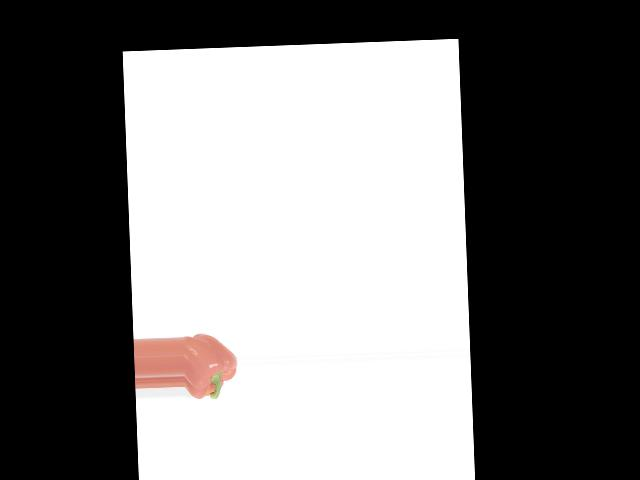bell_pepper: (181, 324, 239, 409)
